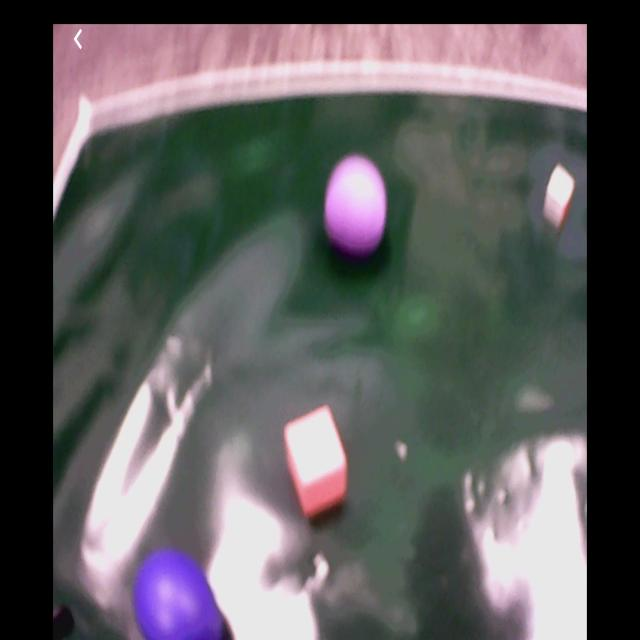ball: (136, 549, 219, 640), (326, 160, 387, 248)
